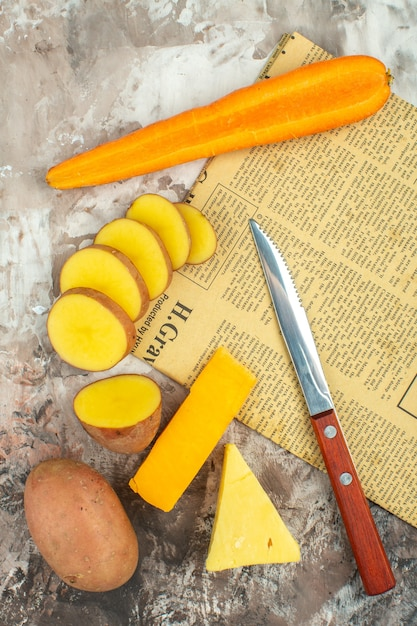knife: (250, 215, 396, 598)
